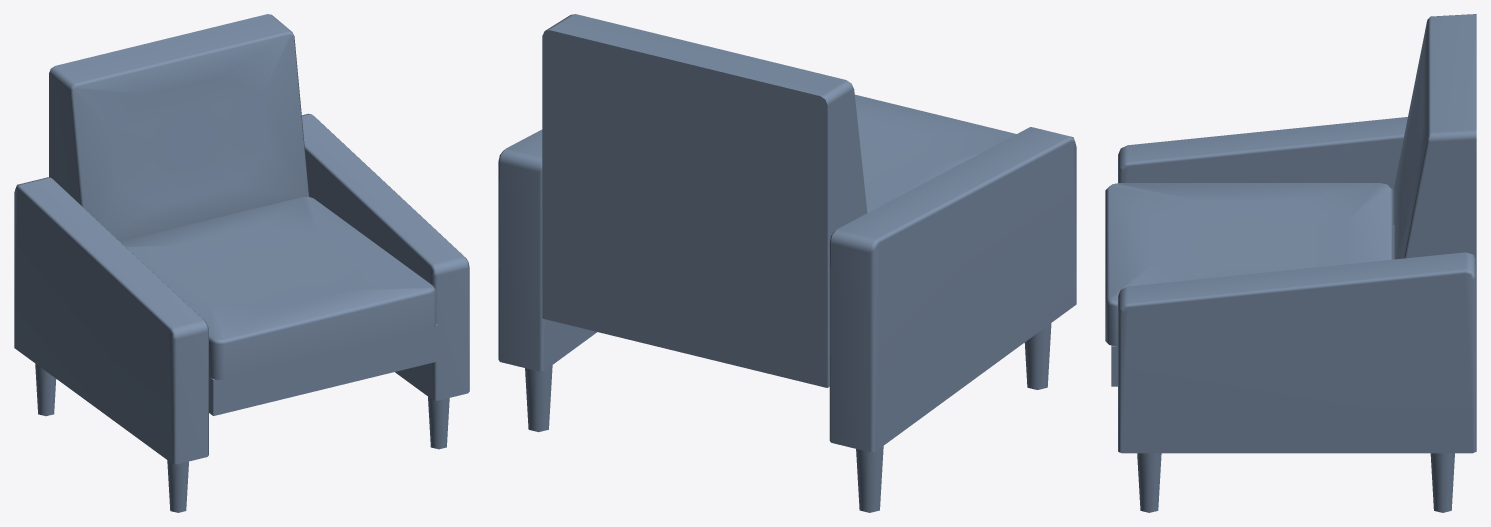
File: SM_ArmChair_00.fbx
The picture shows the model from 3 angles, left to right: view 1: azimuth 30°, elevation 25°; view 2: azimuth 150°, elevation 25°; view 3: azimuth 270°, elevation 25°; orthographic projection. The views are drawn at different scales.
Visible parts, largest first — view 1: ArmChair_00; view 2: ArmChair_00; view 3: ArmChair_00.
Part boxes in pixels (bbox=[...]): ArmChair_00: bbox=[14, 14, 469, 512]; ArmChair_00: bbox=[498, 14, 1076, 512]; ArmChair_00: bbox=[1105, 14, 1476, 512].
Bounding box in the file's own units: 79.31 × 84.12 × 77.28.
